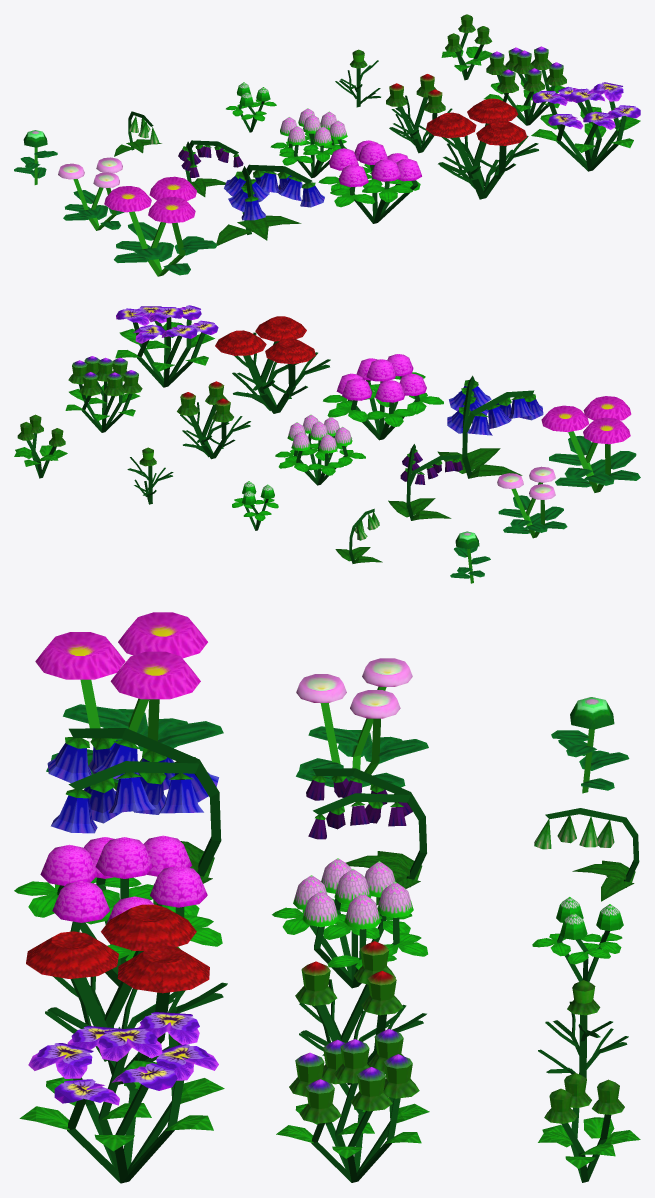
The model's file is FlowersLvl3Wild.fbx.
3 renders of one model, top to bottom at view 1: azimuth 30°, elevation 25°; view 2: azimuth 150°, elevation 25°; view 3: azimuth 270°, elevation 25°, orthographic. The views are drawn at different scales.
Visible parts, largest first — view 1: Daisy3, Carnation3, Clover3, Pansies3, Bell3, Pansies2, Clover2, Daisy2, Carnation2, Bell2, Pansies1, Clover1 (+3 smaller); view 2: Daisy3, Clover3, Carnation3, Bell3, Pansies3, Pansies2, Clover2, Daisy2, Carnation2, Bell2, Pansies1, Clover1 (+3 smaller); view 3: Pansies3, Carnation3, Daisy3, Bell3, Clover3, Pansies2, Clover2, Daisy2, Bell2, Carnation2, Pansies1, Clover1 (+3 smaller).
Boxes of the visible parts, box(x1,y1,x2,y2) form: Daisy3: box(104, 176, 217, 276); Carnation3: box(426, 98, 538, 199); Clover3: box(318, 140, 421, 223); Pansies3: box(531, 82, 640, 171); Bell3: box(216, 164, 324, 245); Pansies2: box(484, 46, 566, 125); Clover2: box(270, 108, 347, 178); Daisy2: box(58, 157, 124, 230); Carnation2: box(386, 74, 452, 153); Bell2: box(178, 140, 243, 196); Pansies1: box(441, 14, 492, 80); Clover1: box(226, 82, 276, 132); Daisy3: box(541, 396, 640, 492); Clover3: box(323, 354, 443, 440); Carnation3: box(215, 316, 330, 413); Bell3: box(437, 375, 543, 478); Pansies3: box(115, 305, 218, 387); Pansies2: box(65, 356, 142, 432); Clover2: box(275, 414, 365, 485); Daisy2: box(497, 466, 567, 538); Carnation2: box(177, 381, 250, 459); Bell2: box(388, 444, 462, 520); Pansies1: box(14, 414, 67, 478); Clover1: box(232, 481, 278, 530); Pansies3: box(19, 1012, 224, 1183); Carnation3: box(26, 904, 227, 1084); Daisy3: box(35, 612, 223, 790); Bell3: box(47, 728, 221, 904); Clover3: box(14, 835, 222, 986); Pansies2: box(276, 1029, 429, 1182); Clover2: box(272, 858, 427, 988); Daisy2: box(296, 658, 428, 787); Bell2: box(306, 768, 426, 905); Carnation2: box(295, 941, 426, 1084); Pansies1: box(538, 1073, 640, 1182); Clover1: box(532, 897, 623, 981).
Size of the model in its own units: 485 by 71.32 by 272.
